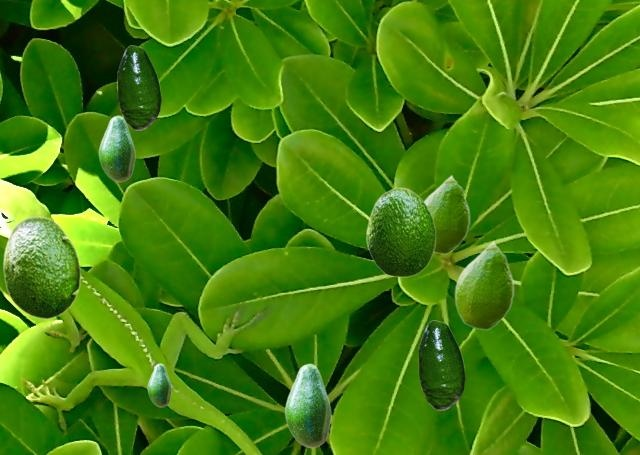avocado: (2, 216, 80, 318), (366, 187, 435, 276), (454, 240, 513, 329), (418, 320, 464, 409), (284, 363, 330, 447), (117, 45, 160, 129), (424, 174, 469, 253), (98, 115, 134, 181), (147, 363, 170, 406)
